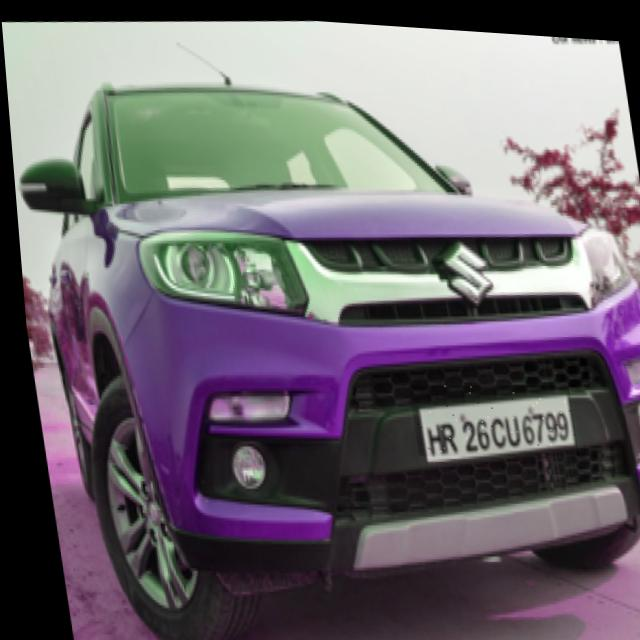license_plate: (401, 369, 572, 459)
